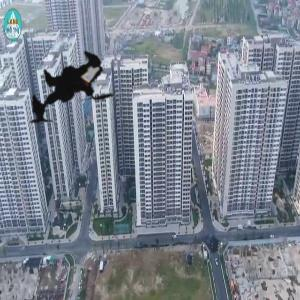drone: (2, 25, 143, 166)
